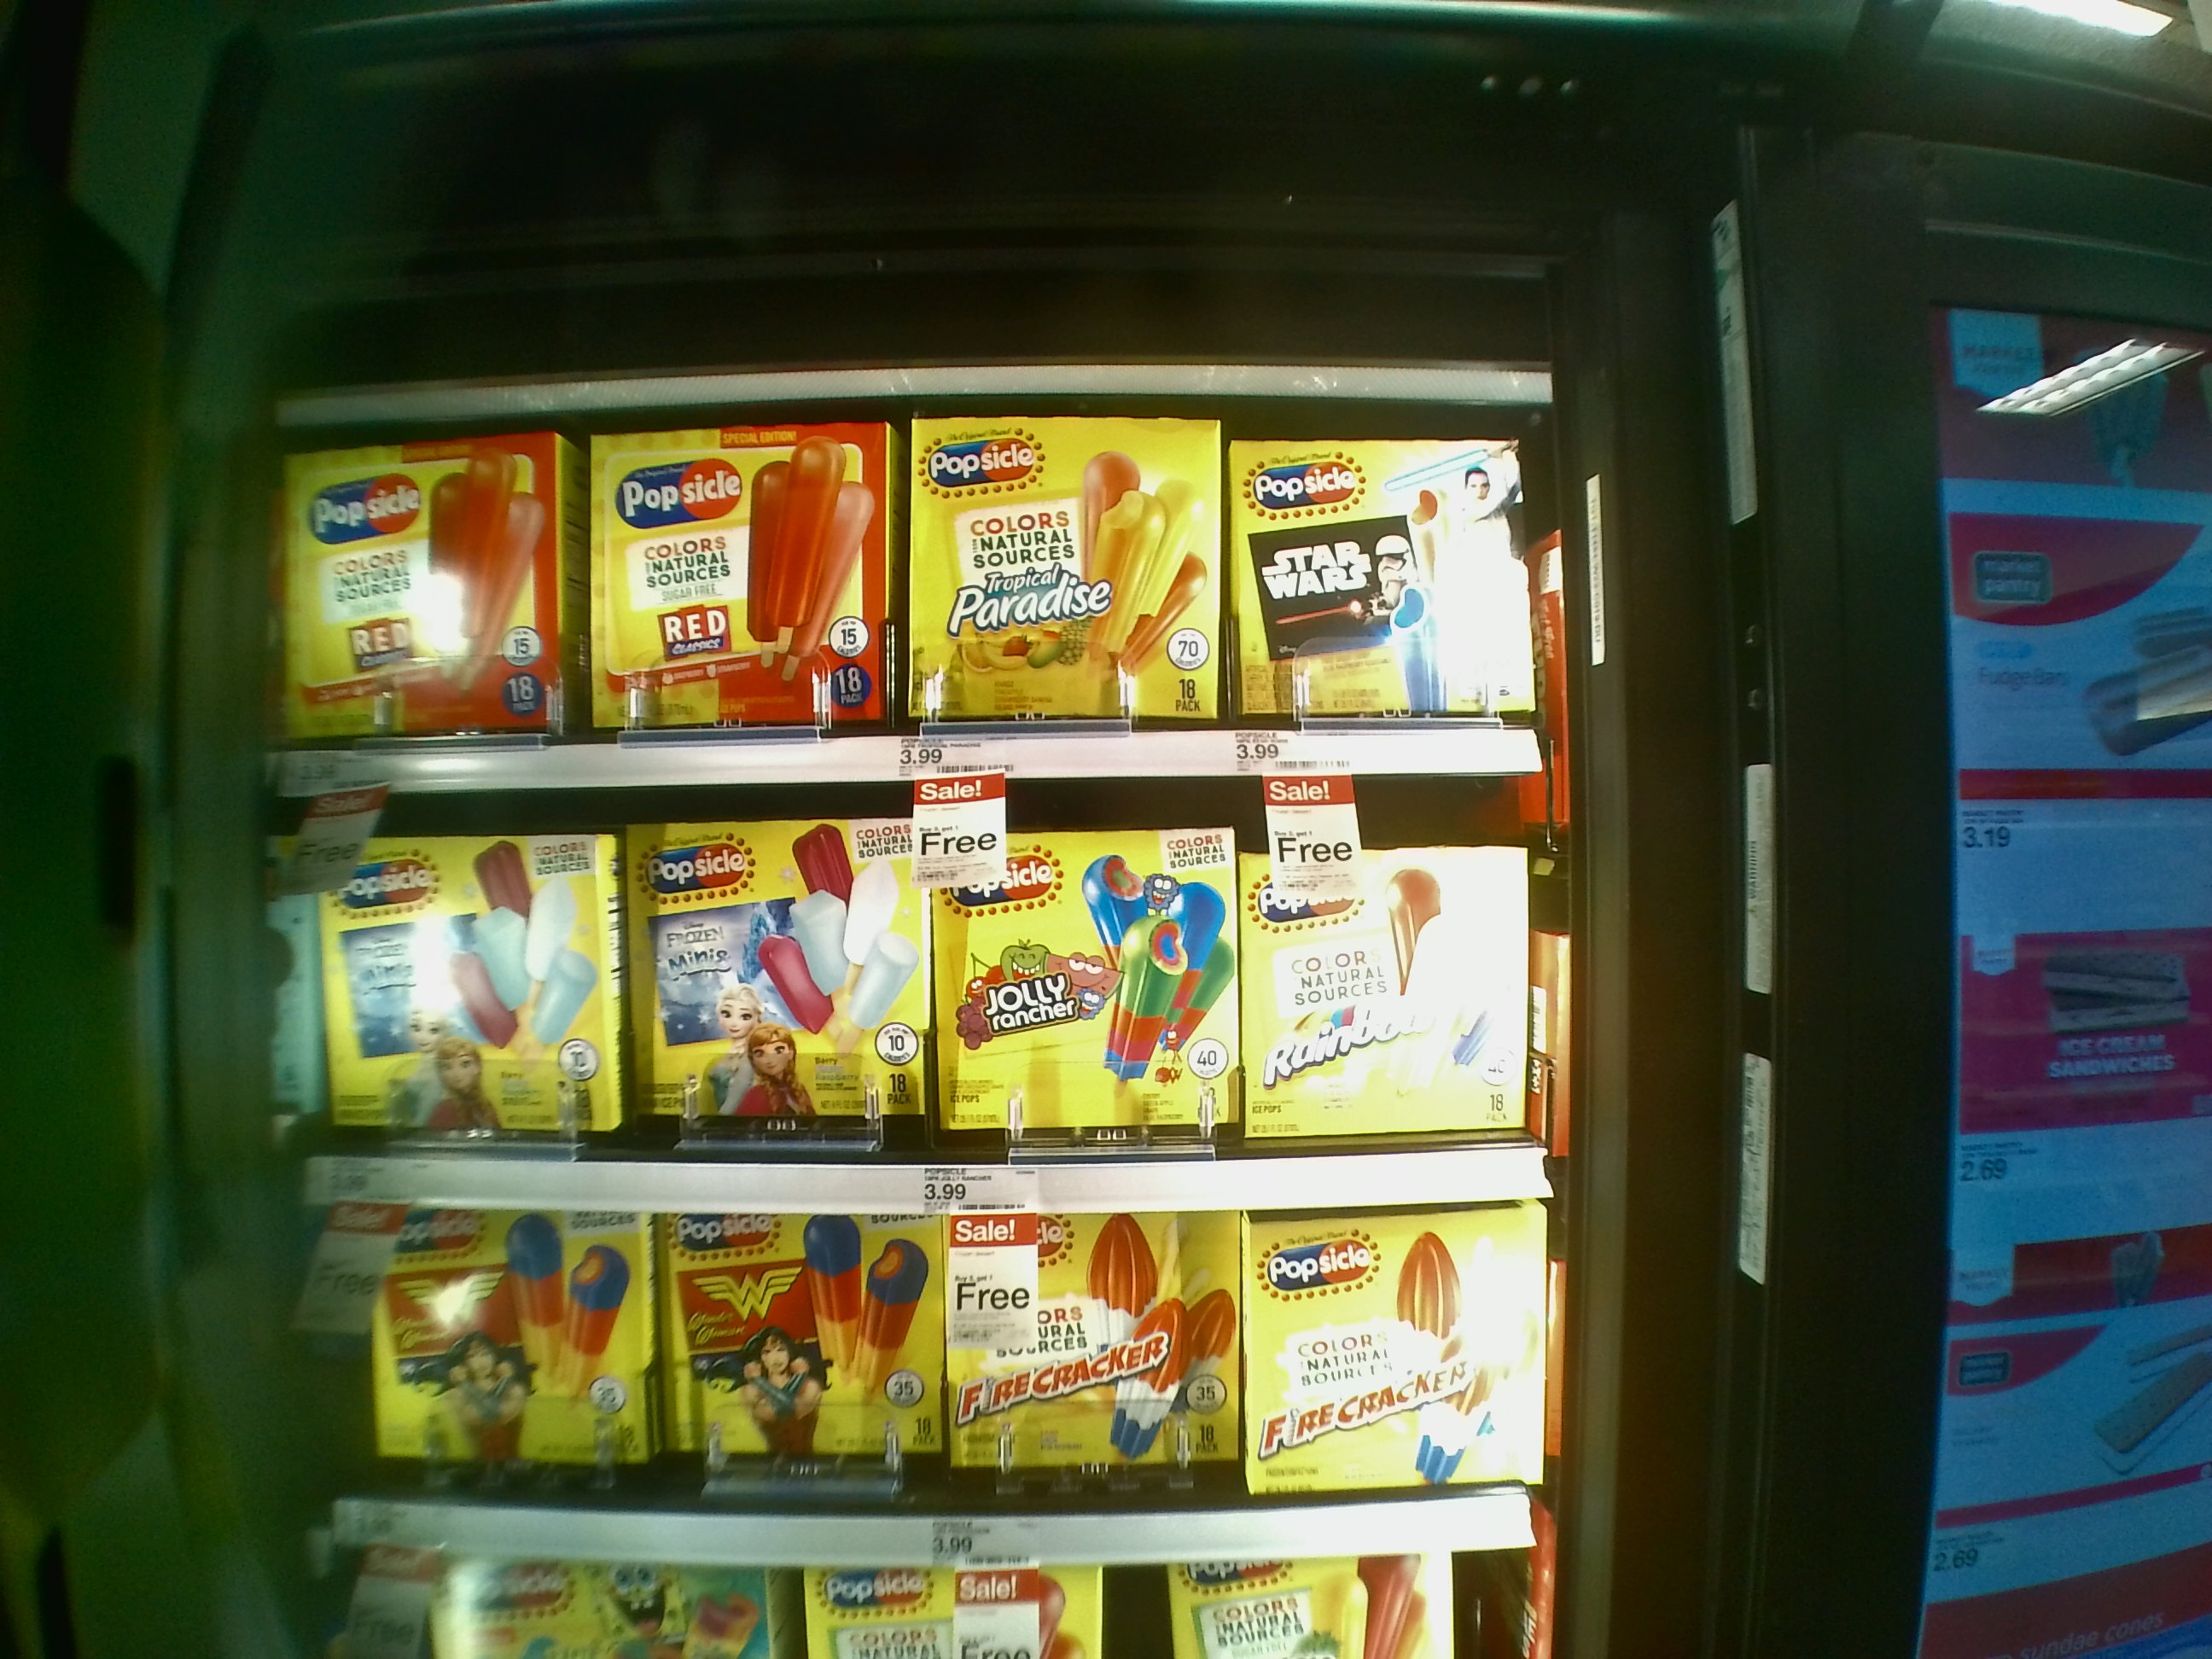shelf: (277, 791, 1564, 1209), (280, 354, 1543, 772), (310, 1202, 1531, 1598)
